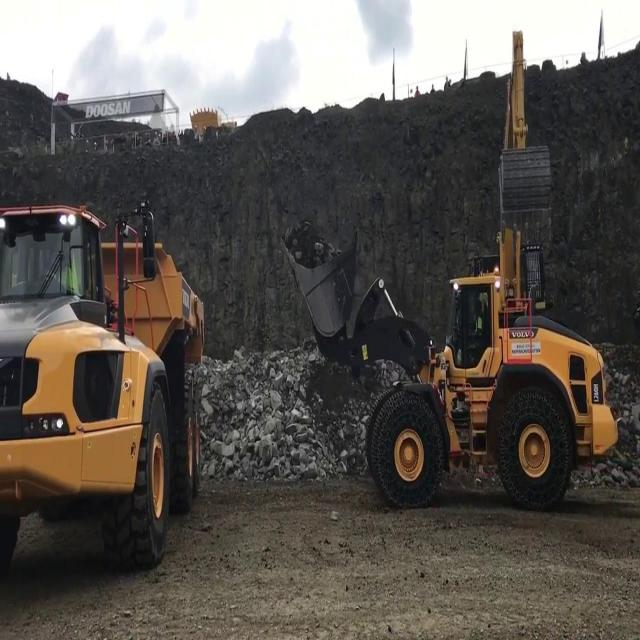Dump Truck: (0, 212, 210, 564)
Excavator: (494, 31, 547, 325)
Loader: (279, 230, 615, 511)
